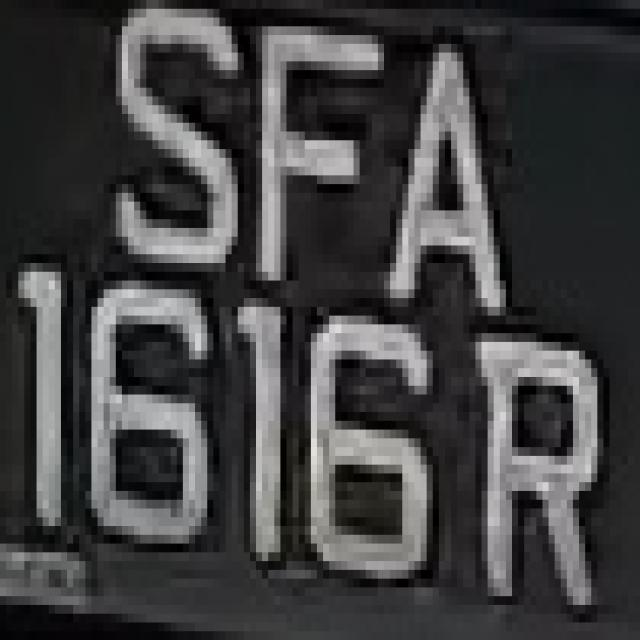1: (220, 254, 298, 596), (24, 220, 86, 552)
6: (298, 272, 432, 631), (86, 245, 226, 588)
A: (372, 9, 518, 333)
F: (238, 9, 384, 298)
R: (476, 307, 610, 640)
S: (97, 0, 244, 298)
